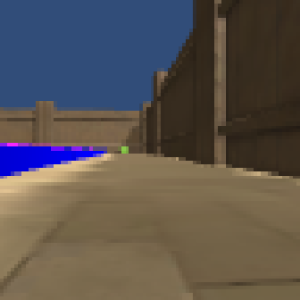goodGoal: (119, 145, 131, 155)
platform: (1, 140, 112, 179)
